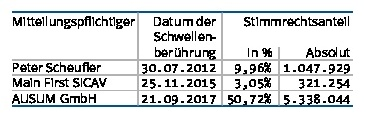table: (0, 0, 366, 120)
